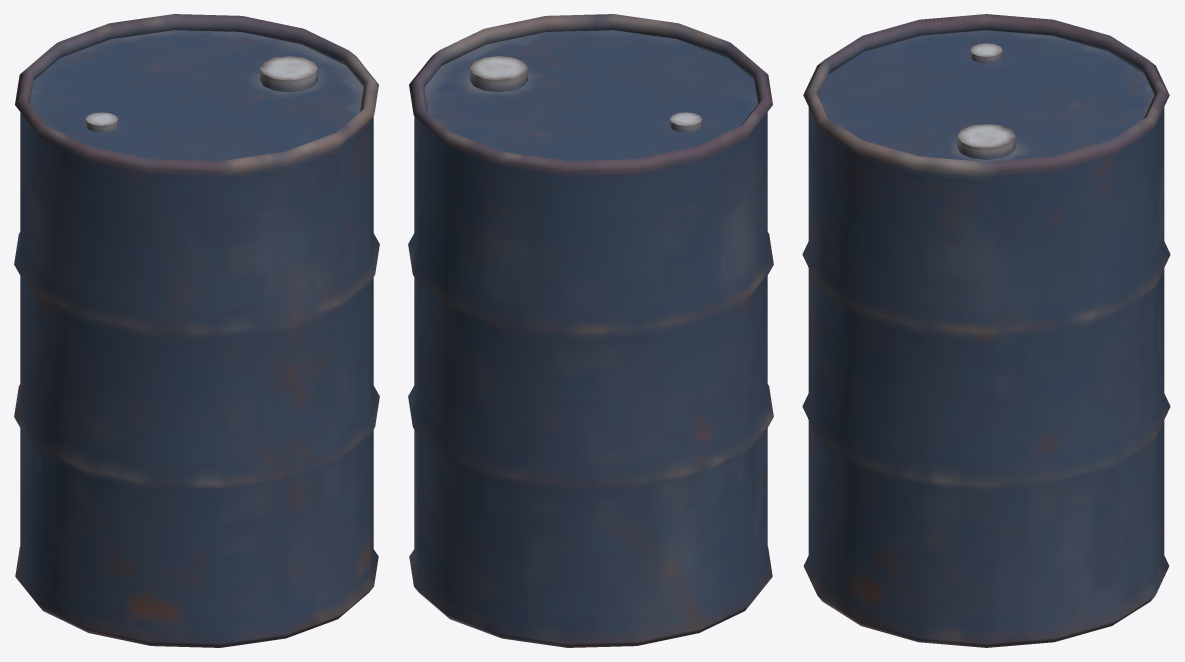
Rendered from objects_un_base_oildrum02.gltf.
3 renders of one model, left to right at view 1: azimuth 30°, elevation 25°; view 2: azimuth 150°, elevation 25°; view 3: azimuth 270°, elevation 25°, orthographic.
Parts seen in each view (by area): view 1: objects_un_base_oildrum02_body_mesh_shape:objects_un_base_oi; view 2: objects_un_base_oildrum02_body_mesh_shape:objects_un_base_oi; view 3: objects_un_base_oildrum02_body_mesh_shape:objects_un_base_oi.
Boxes of the visible parts, x1,y1,x2,y2 form: objects_un_base_oildrum02_body_mesh_shape:objects_un_base_oi: [14, 14, 379, 647]; objects_un_base_oildrum02_body_mesh_shape:objects_un_base_oi: [408, 14, 773, 647]; objects_un_base_oildrum02_body_mesh_shape:objects_un_base_oi: [802, 14, 1170, 647].
Bounding box in the file's own units: 0.8893 × 1.29 × 0.8893.
1 material, 1 textured.
